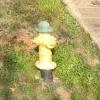a fire hydrant: (34, 21, 57, 71)
